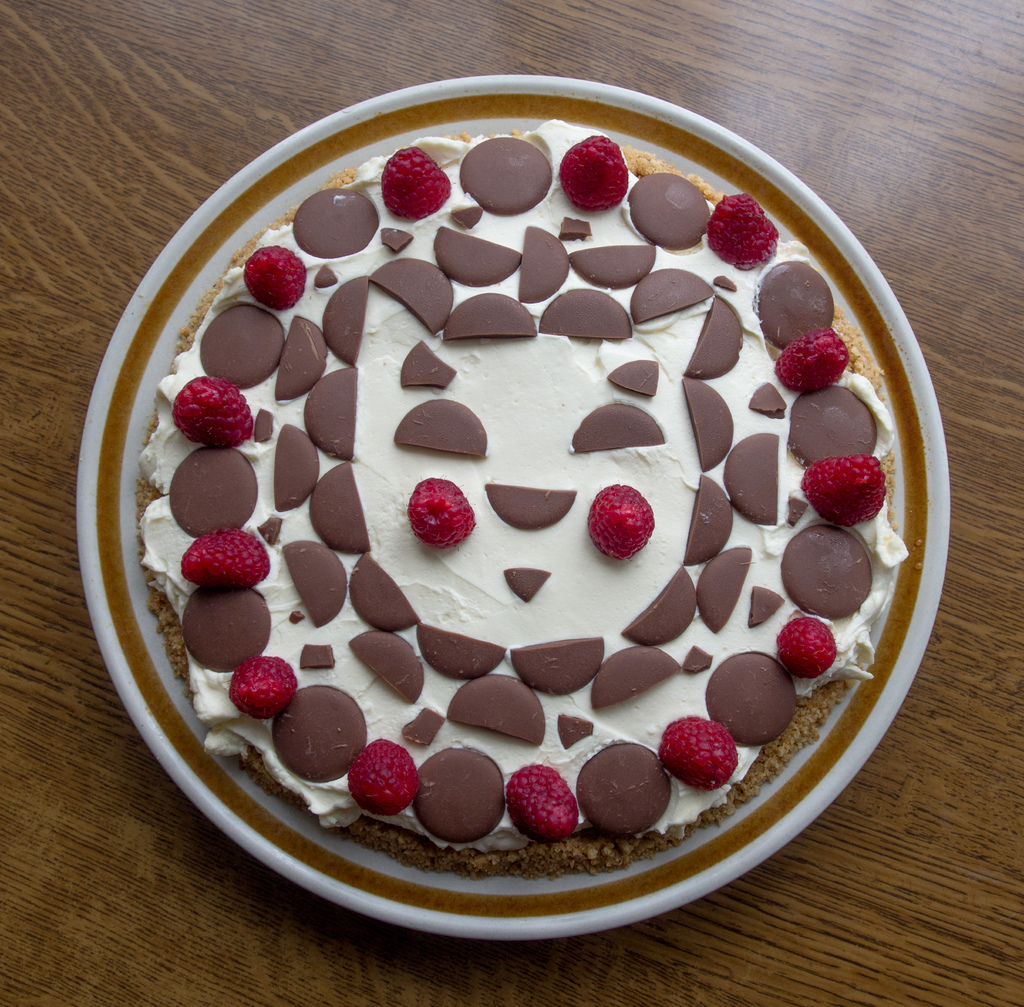cake: (131, 119, 914, 880)
